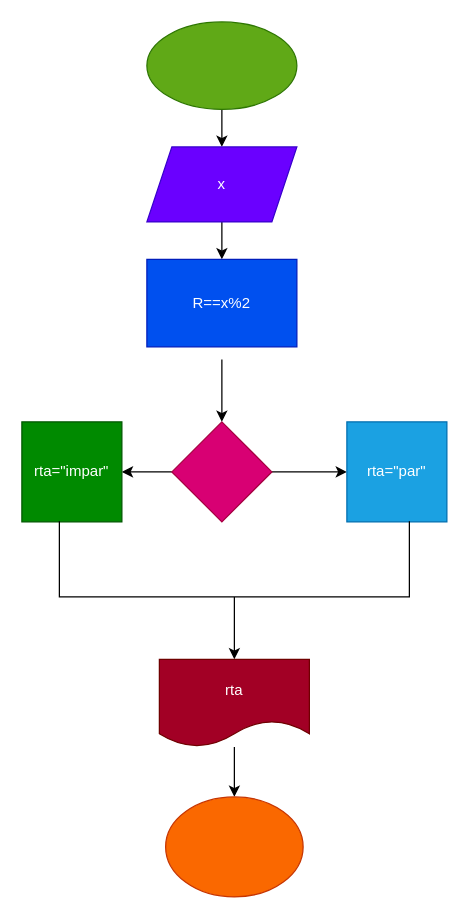
The diagram is 469 pixels wide and 919 high, and some of its shapes have lost their labels. The shapes that lost their labels are listed below. From the top down, each one's centre as x and y in pixels, then its label:
At (221,65): "incio".
At (221,471): "R==0".
At (233,846): "fin".
